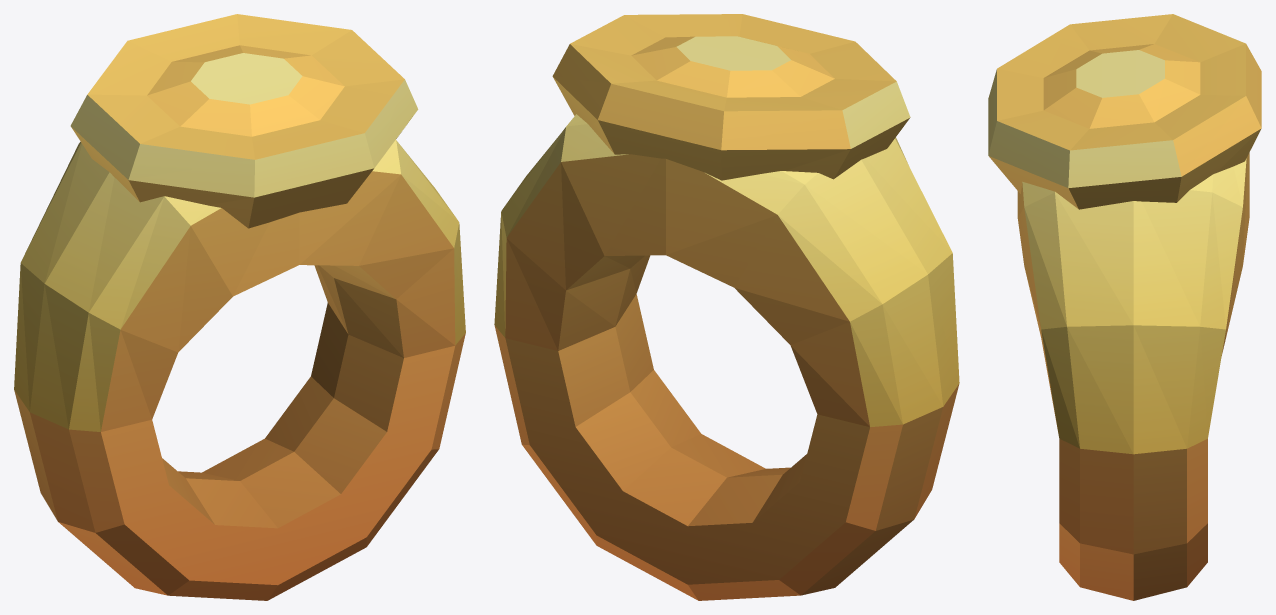
Rendered from ring_gold_signet.glb.
3 renders of one model, left to right at view 1: azimuth 30°, elevation 25°; view 2: azimuth 150°, elevation 25°; view 3: azimuth 270°, elevation 25°, orthographic. The views are drawn at different scales.
Visible parts, largest first — view 1: model; view 2: model; view 3: model.
Part boxes in pixels (x1=…): model: x1=14, y1=14, x2=465, y2=600; model: x1=494, y1=14, x2=959, y2=600; model: x1=988, y1=14, x2=1261, y2=600.
Size of the model in its own units: 0.52 by 0.62 by 0.3.
1 material, 1 textured.
